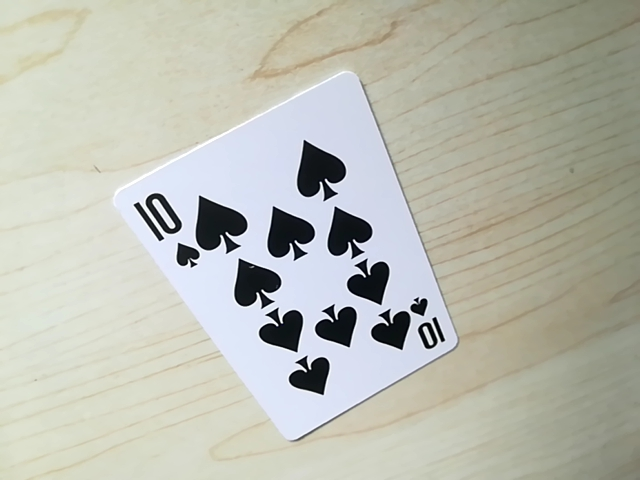ht 10: (131, 184, 198, 269), (410, 294, 449, 352)
